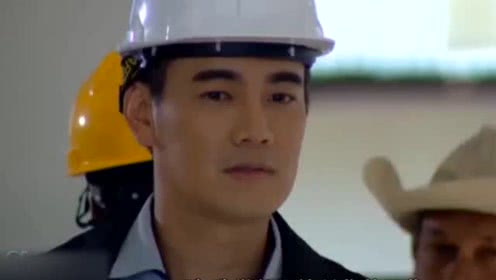helmet: (122, 1, 336, 64)
